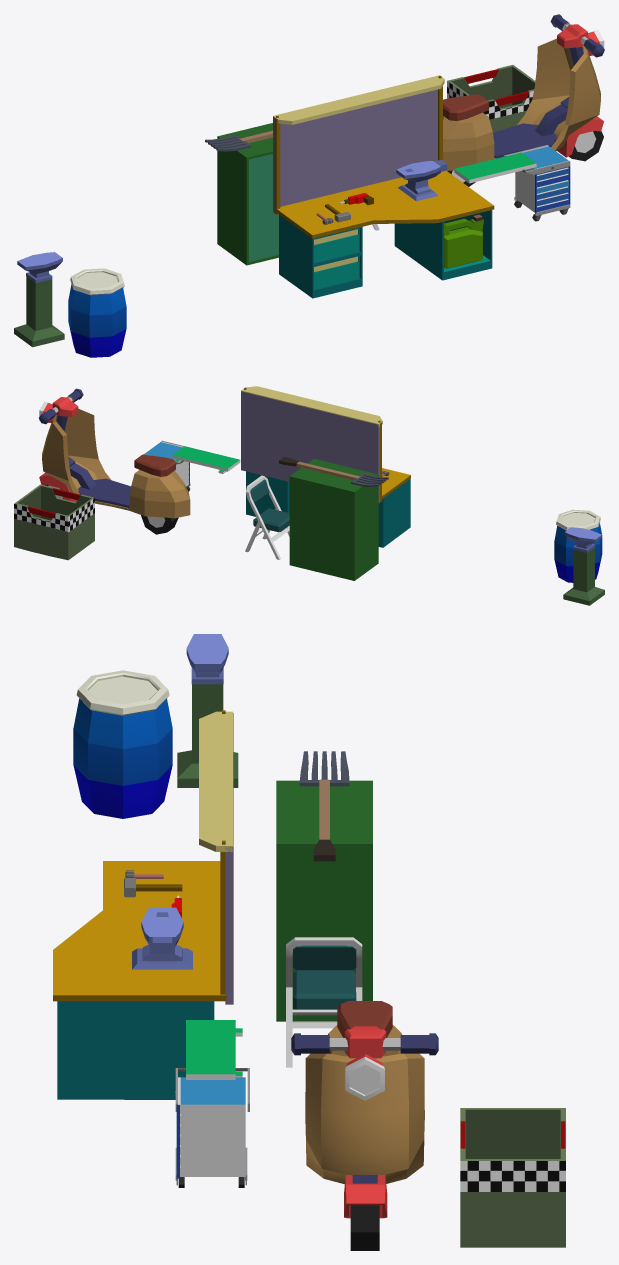
The model's file is Level11.fbx.
3 renders of one model, top to bottom at view 1: azimuth 30°, elevation 25°; view 2: azimuth 150°, elevation 25°; view 3: azimuth 270°, elevation 25°, orthographic. The views are drawn at different scales.
Parts seen in each view (by area): view 1: Table, Bike, Cabinet3, pCylinder6, Finish_Box, Trwly8, Iron_Stand, Oil_Bottle, Stand9, polySurface12, Spoon; view 2: Table, Bike, Cabinet3, Finish_Box, Iron_Stand, pCylinder6, Chair4, Stand9, Spoon, Trwly8; view 3: Table, Bike, Cabinet3, Finish_Box, pCylinder6, Trwly8, Chair4, Iron_Stand, Stand9, polySurface12, Spoon.
Boxes of the visible parts, left/top/right/bottom form: Table: left=273, top=75, right=494, bottom=298; Bike: left=443, top=14, right=604, bottom=186; Cabinet3: left=217, top=123, right=278, bottom=265; pCylinder6: left=68, top=268, right=126, bottom=357; Finish_Box: left=447, top=65, right=535, bottom=132; Trwly8: left=503, top=145, right=570, bottom=220; Iron_Stand: left=14, top=252, right=64, bottom=347; Oil_Bottle: left=444, top=214, right=483, bottom=268; Stand9: left=454, top=152, right=536, bottom=183; polySurface12: left=396, top=159, right=447, bottom=201; Spoon: left=205, top=130, right=272, bottom=151; Table: left=241, top=386, right=410, bottom=547; Bike: left=39, top=388, right=190, bottom=534; Cabinet3: left=289, top=459, right=378, bottom=580; Finish_Box: left=14, top=484, right=94, bottom=560; Iron_Stand: left=563, top=527, right=604, bottom=605; pCylinder6: left=554, top=509, right=602, bottom=582; Chair4: left=245, top=475, right=289, bottom=559; Stand9: left=172, top=446, right=240, bottom=473; Spoon: left=279, top=456, right=388, bottom=486; Trwly8: left=143, top=440, right=190, bottom=486; Table: left=53, top=710, right=233, bottom=1099; Bike: left=291, top=1001, right=438, bottom=1250; Cabinet3: left=276, top=780, right=372, bottom=1021; Finish_Box: left=460, top=1108, right=565, bottom=1247; pCylinder6: left=73, top=670, right=172, bottom=818; Trwly8: left=175, top=1068, right=249, bottom=1185; Chair4: left=286, top=937, right=362, bottom=1067; Iron_Stand: left=177, top=634, right=238, bottom=787; Stand9: left=186, top=1020, right=242, bottom=1079; polySurface12: left=132, top=907, right=192, bottom=969; Spoon: left=299, top=751, right=349, bottom=861.
Bounding box in the file's own units: 24.02 × 5.88 × 10.34.
56 materials, 1 textured.
